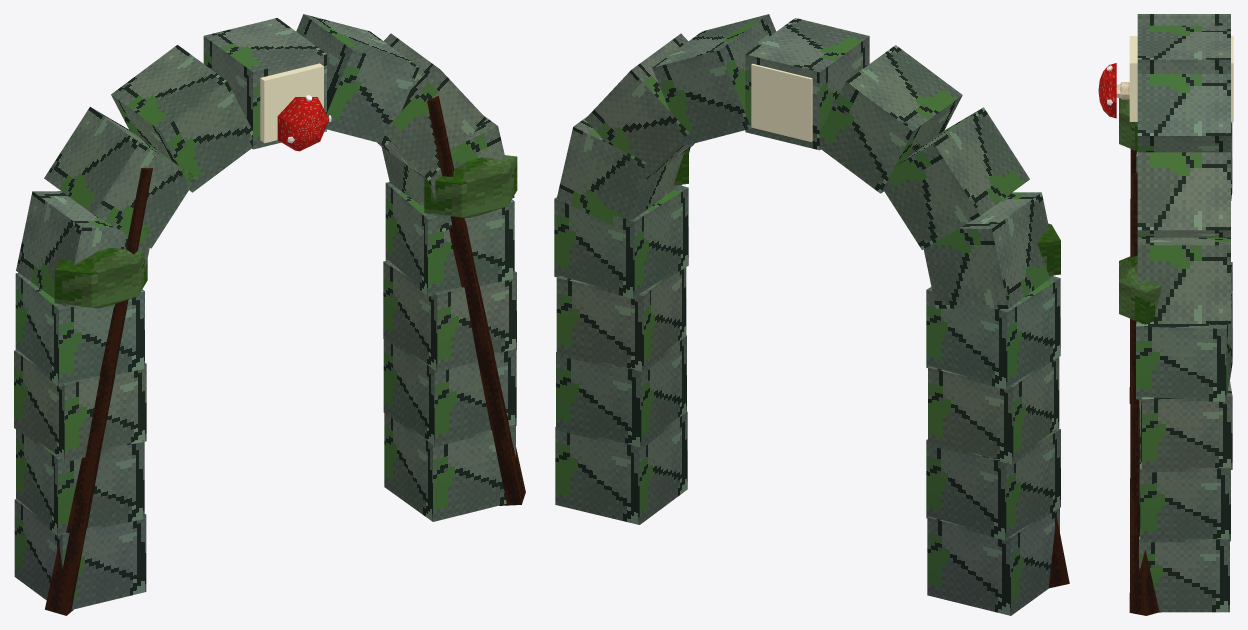
The model's file is root_arch.glb.
3 views of the same model, side by side, from view 1: azimuth 30°, elevation 25°; view 2: azimuth 150°, elevation 25°; view 3: azimuth 270°, elevation 25° (orthographic). The views are drawn at different scales.
Parts seen in each view (by area): view 1: root_arch; view 2: root_arch; view 3: root_arch.
Part boxes in pixels (x1,y1,x2,y2): root_arch: [14, 14, 525, 615]; root_arch: [554, 14, 1069, 615]; root_arch: [1098, 14, 1233, 615].
Bounding box in the file's own units: 4.03 × 3.98 × 1.04.
Materials: 7 (6 with a texture image).
